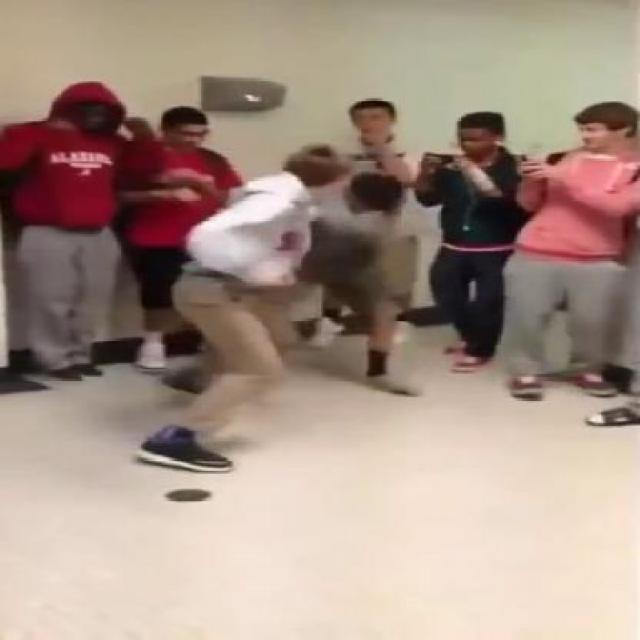fight: (133, 143, 444, 484)
